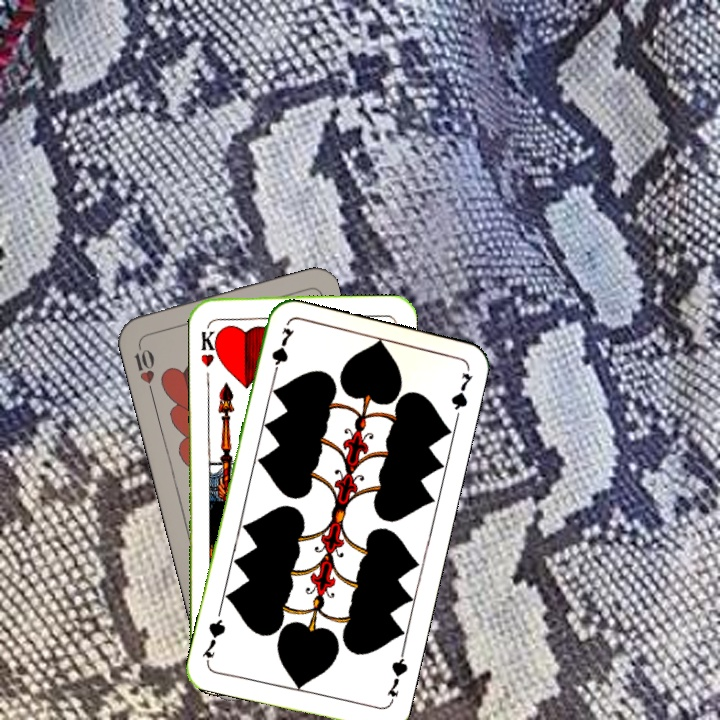G7: (267, 323, 297, 382), (382, 648, 411, 706)
H10: (130, 337, 157, 396)
HK: (196, 326, 223, 370)
